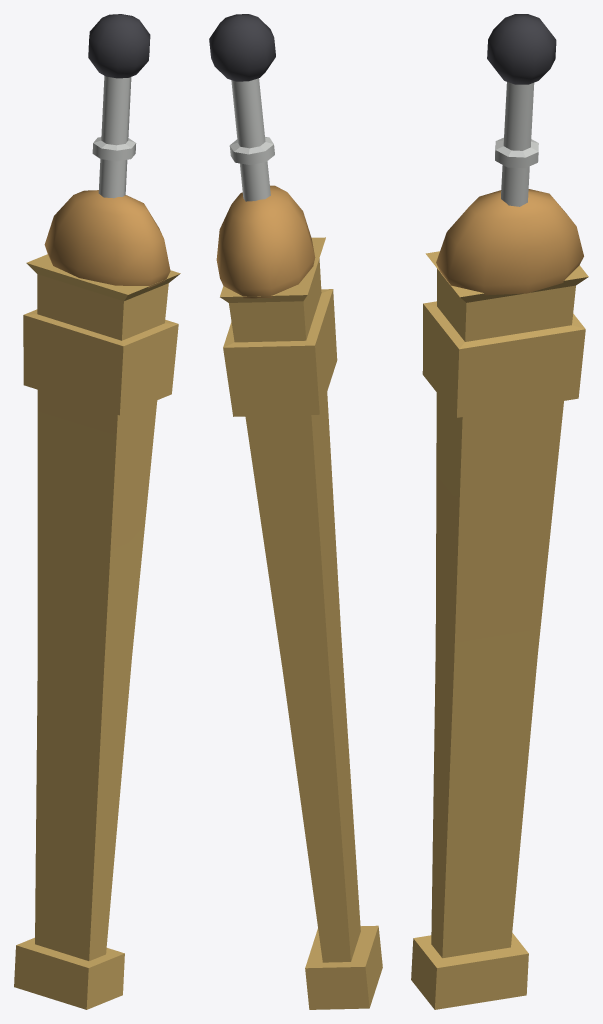
The model's file is SM_belt_sword.fbx.
The picture shows the model from 3 angles, left to right: view 1: azimuth 30°, elevation 25°; view 2: azimuth 150°, elevation 25°; view 3: azimuth 270°, elevation 25°; orthographic projection. The views are drawn at different scales.
Visible parts, largest first — view 1: belt_sword; view 2: belt_sword; view 3: belt_sword.
Part boxes in pixels (left/top/right/bottom): belt_sword: left=14, top=14, right=180, bottom=1009; belt_sword: left=209, top=14, right=382, bottom=1009; belt_sword: left=411, top=14, right=588, bottom=1009.
Size of the model in its own units: 9.21 by 56.41 by 8.97.
